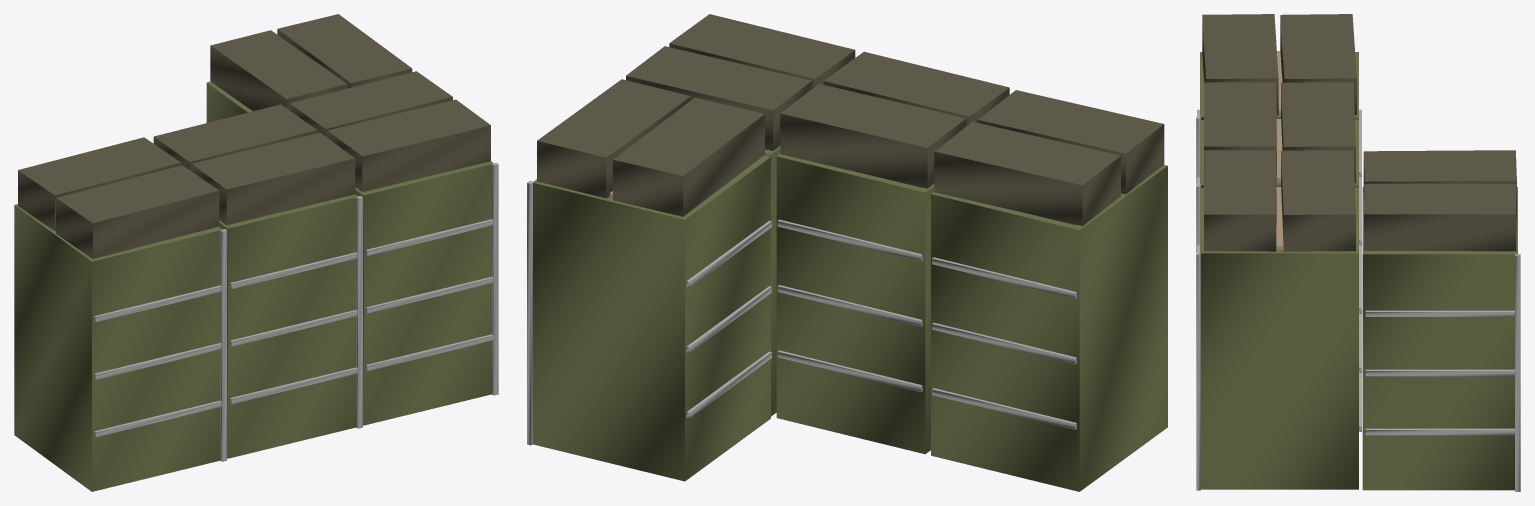
The model's file is SM_HescoRemateEspejo_v3_RemateSacos_e0_Sano_LOD0.fbx.
3 renders of one model, left to right at view 1: azimuth 30°, elevation 25°; view 2: azimuth 150°, elevation 25°; view 3: azimuth 270°, elevation 25°, orthographic. The views are drawn at different scales.
Visible parts, largest first — view 1: SM_hesco_piezas_v32_LOD0; view 2: SM_hesco_piezas_v32_LOD0; view 3: SM_hesco_piezas_v32_LOD0.
Part boxes in pixels (<box>): SM_hesco_piezas_v32_LOD0: <box>14,14,498,491</box>; SM_hesco_piezas_v32_LOD0: <box>527,14,1167,491</box>; SM_hesco_piezas_v32_LOD0: <box>1196,14,1520,491</box>.
Size of the model in its own units: 3.33 by 2.09 by 2.24.
